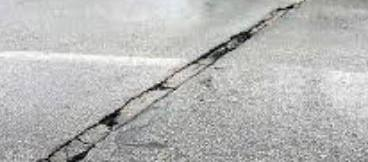pothole: (46, 0, 306, 161)
